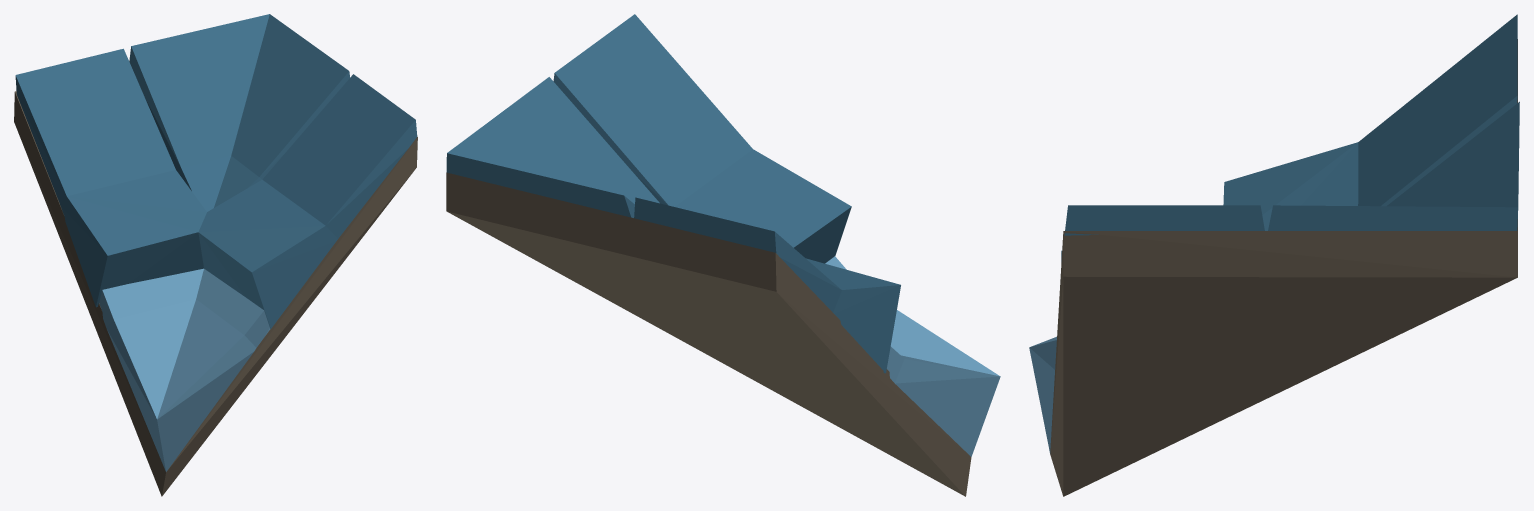
The model's file is ROOF_small_inner_corner_1.fbx.
3 views of the same model, side by side, from view 1: azimuth 30°, elevation 25°; view 2: azimuth 150°, elevation 25°; view 3: azimuth 270°, elevation 25° (orthographic). The views are drawn at different scales.
Parts seen in each view (by area): view 1: ROOF_small_inner_corner_1; view 2: ROOF_small_inner_corner_1; view 3: ROOF_small_inner_corner_1.
Part boxes in pixels (box(x1,y1,x2,y2)): ROOF_small_inner_corner_1: box(14, 14, 417, 496); ROOF_small_inner_corner_1: box(446, 14, 1000, 496); ROOF_small_inner_corner_1: box(1029, 14, 1519, 496).
Bounding box in the file's own units: 53.24 × 58.71 × 53.97.
